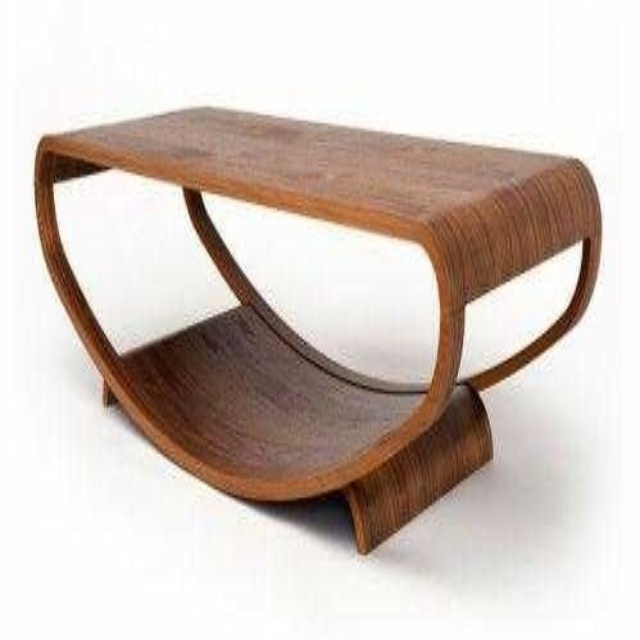obstacle: (35, 109, 600, 550)
